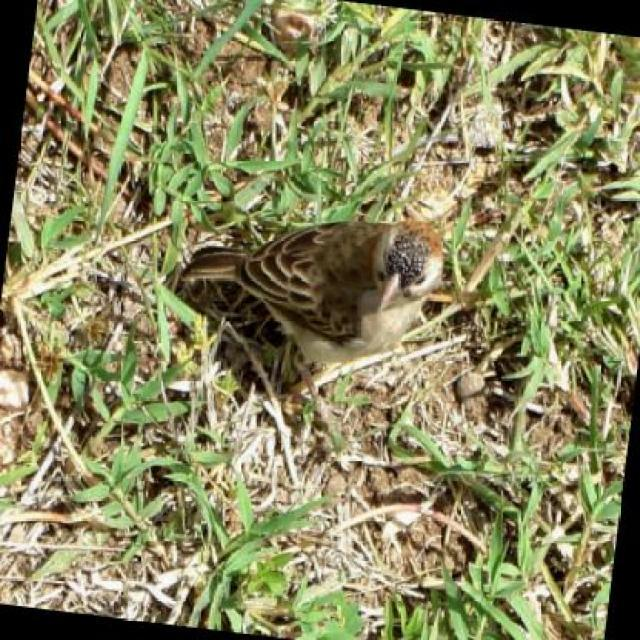Bird: (179, 216, 448, 367)
